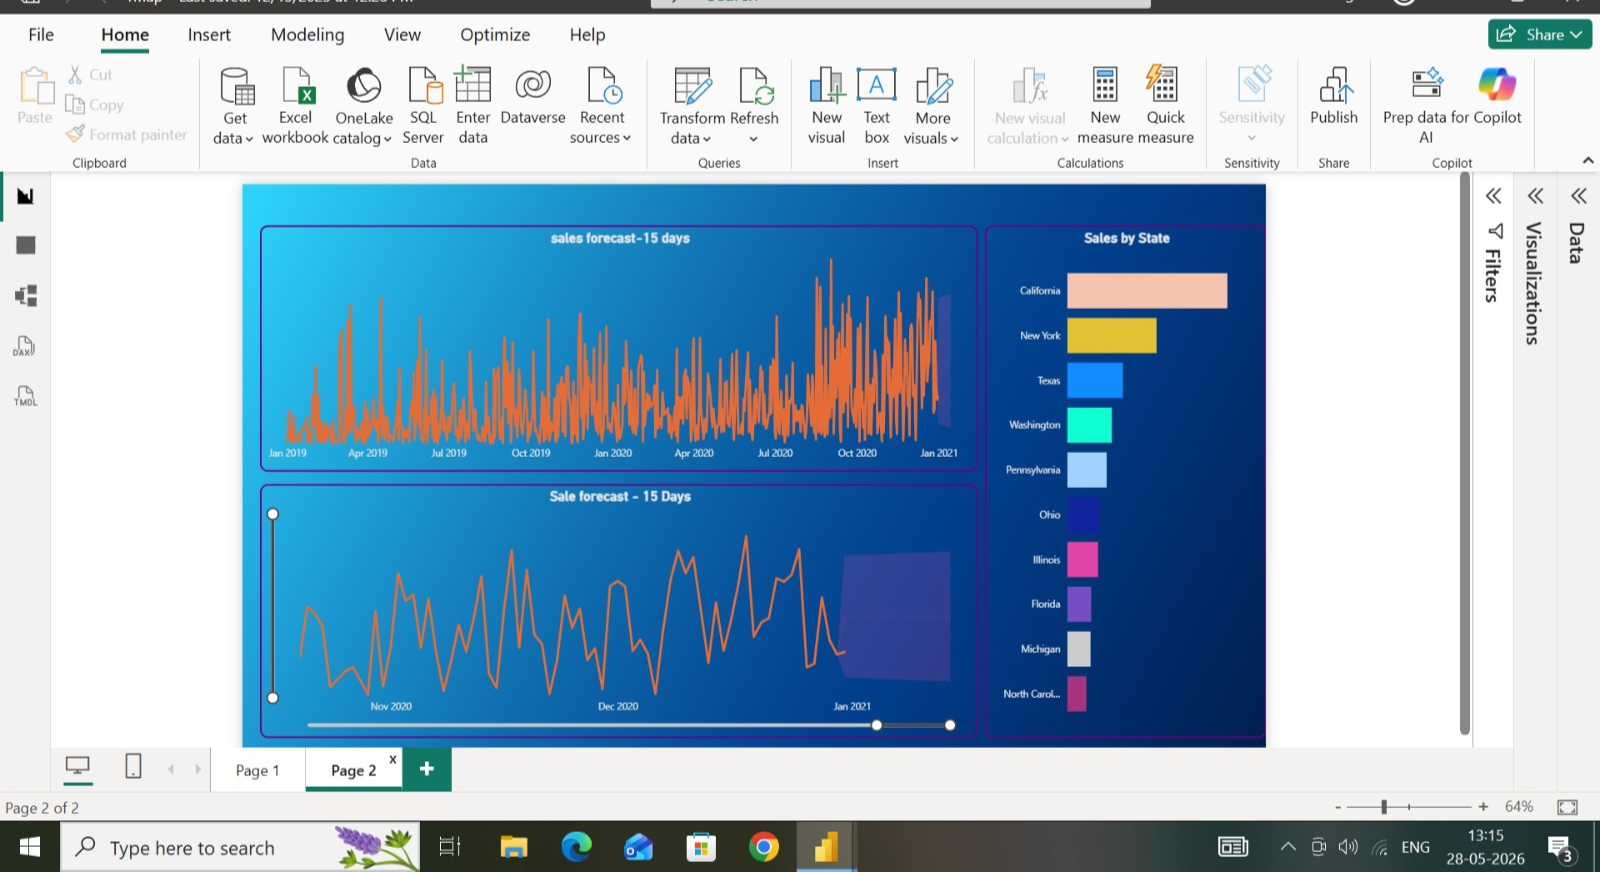

The page's visual inventory and layout, read from the dashboard file:
{"tool":"powerbi","page":{"name":"Page 2","canvas":[1280,720],"ordinal":1},"visuals":[{"type":"lineChart","title":"sales forecast-15 days","fields":{"Y":["Sum(SuperStore_Sales_Dataset.Sales)"],"Category":["SuperStore_Sales_Dataset.Order Date"]},"box":[21.9,51.6,897.2,307.9],"z":0},{"type":"lineChart","title":"Sale forecast - 15 Days","fields":{"Y":["Sum(SuperStore_Sales_Dataset.Sales)"],"Category":["SuperStore_Sales_Dataset.Order Date"]},"box":[21.9,375.1,897.2,317.3],"z":1000},{"type":"clusteredBarChart","title":"Sales by State","fields":{"Category":["SuperStore_Sales_Dataset.State"],"Y":["Sum(SuperStore_Sales_Dataset.Sales)"]},"box":[928.4,51.6,351.7,640.8],"z":2000}]}

Visuals, with their boxes on the page's 1280x720 design canvas (x1, y1, x2, y2). These are canvas units, not pixel positions in the 1600x872 screenshot, which may show the page scaled, cropped or inside an application window:
"sales forecast-15 days" lineChart: BBox(22, 52, 919, 360)
"Sale forecast - 15 Days" lineChart: BBox(22, 375, 919, 692)
"Sales by State" clusteredBarChart: BBox(928, 52, 1280, 692)
